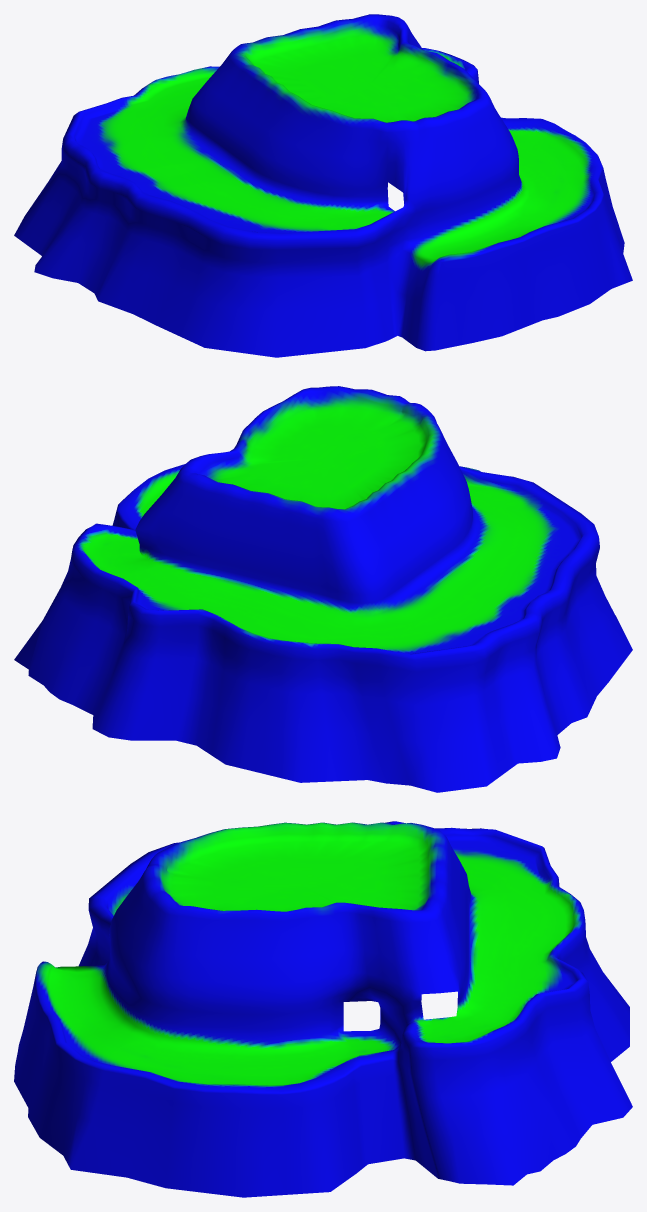
Rendered from MountainPlaceHolderShape.dae.
3 renders of one model, top to bottom at view 1: azimuth 30°, elevation 25°; view 2: azimuth 150°, elevation 25°; view 3: azimuth 270°, elevation 25°, orthographic. The views are drawn at different scales.
Visible parts, largest first — view 1: MountainPlaceHolder; view 2: MountainPlaceHolder; view 3: MountainPlaceHolder.
Part boxes in pixels (x1,y1,x2,y2): MountainPlaceHolder: (14, 14, 632, 357); MountainPlaceHolder: (14, 386, 632, 792); MountainPlaceHolder: (14, 821, 632, 1197).
Bounding box in the file's own units: 197 × 68.65 × 185.
